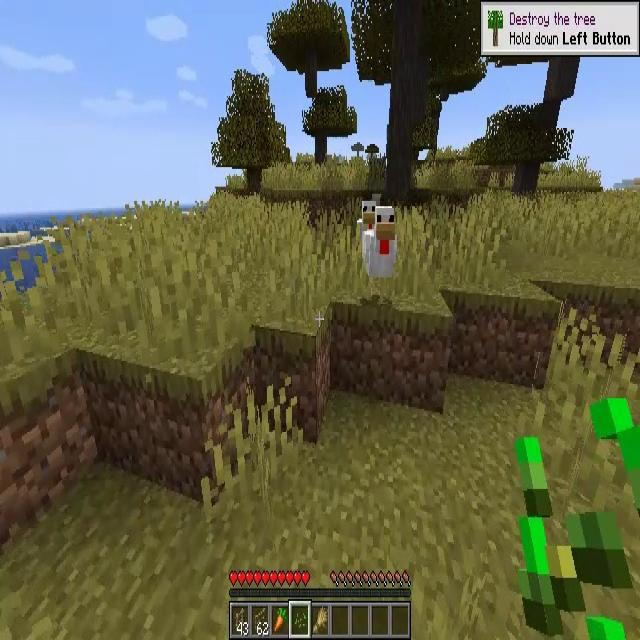duck: (362, 207, 398, 297), (357, 201, 379, 242)
